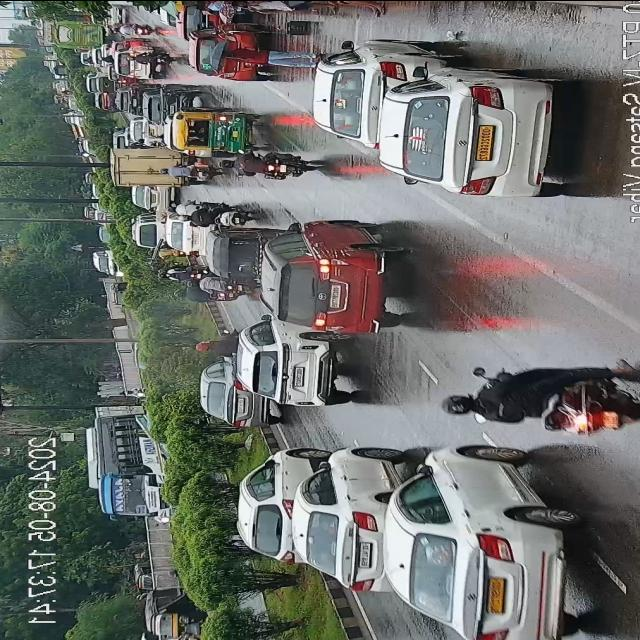2-wheelers: (447, 355, 637, 431), (216, 150, 316, 179), (166, 200, 250, 224), (193, 332, 238, 354), (158, 164, 224, 178), (153, 264, 209, 280), (182, 278, 250, 290), (175, 290, 242, 302), (126, 50, 174, 66), (118, 24, 158, 38)
auto: (172, 107, 260, 155), (207, 228, 271, 276), (136, 85, 202, 129), (144, 585, 194, 640), (142, 87, 166, 127)
bus: (85, 408, 177, 526), (52, 20, 110, 48)
car: (385, 447, 569, 640), (378, 66, 556, 198), (256, 218, 406, 338), (288, 448, 388, 590), (312, 42, 432, 144), (240, 445, 324, 565), (242, 328, 352, 416), (200, 348, 270, 432), (188, 24, 268, 81), (132, 209, 172, 250), (164, 224, 211, 253), (112, 48, 158, 77), (128, 185, 174, 208), (92, 251, 122, 275), (131, 117, 157, 144), (90, 44, 118, 65), (97, 90, 119, 114), (104, 68, 134, 83), (84, 72, 106, 90)
pedestrian: (219, 47, 315, 68), (310, 0, 386, 18), (232, 0, 336, 12), (191, 0, 235, 12)
truck: (111, 146, 185, 187)
